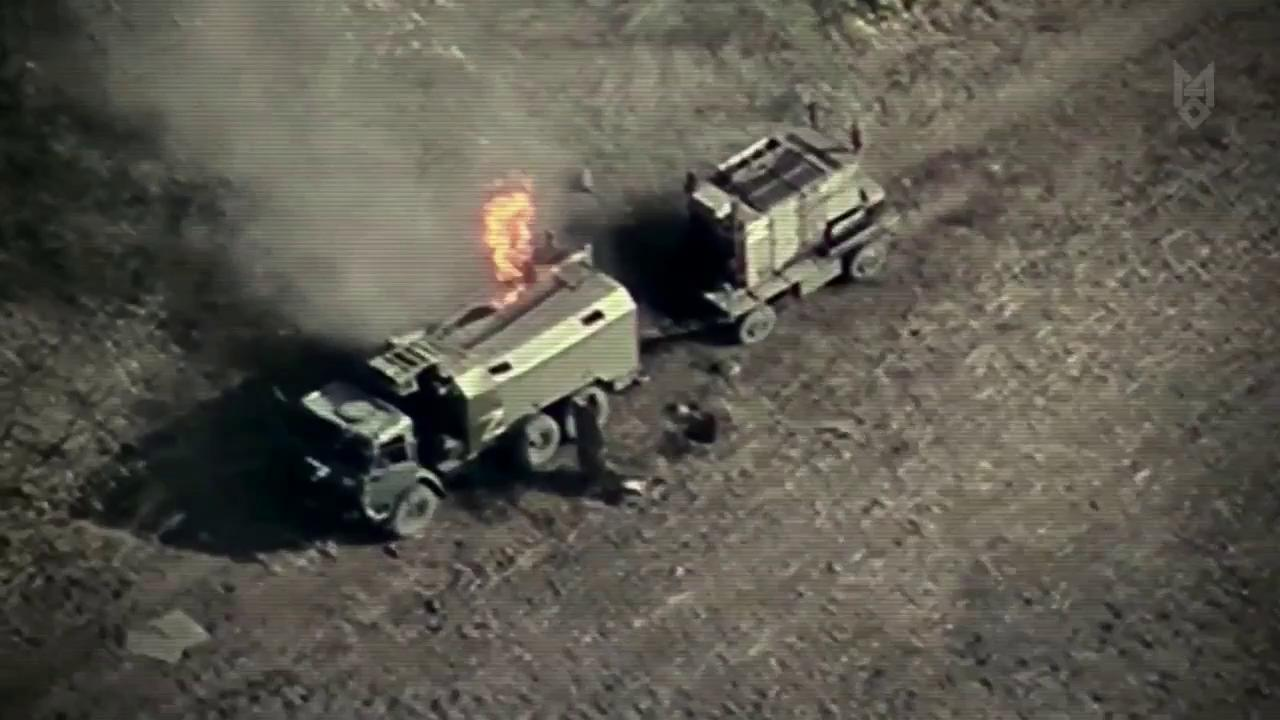tank: (284, 231, 654, 545), (664, 117, 892, 345)
